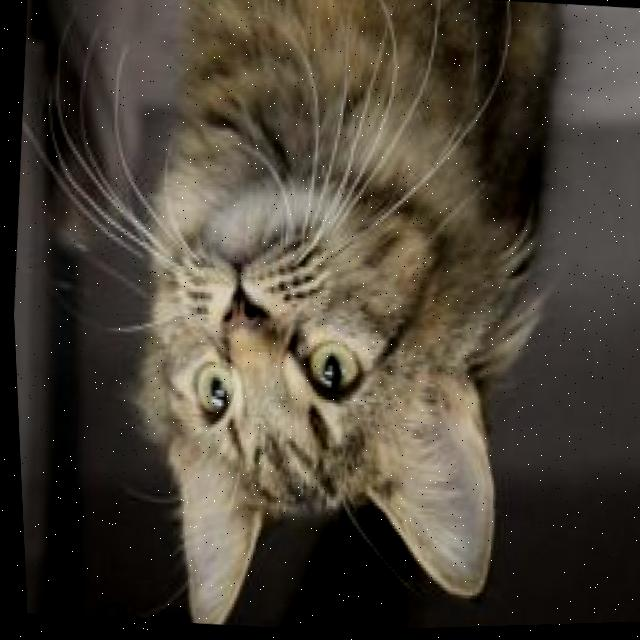Maine Coon: (101, 0, 587, 638)
